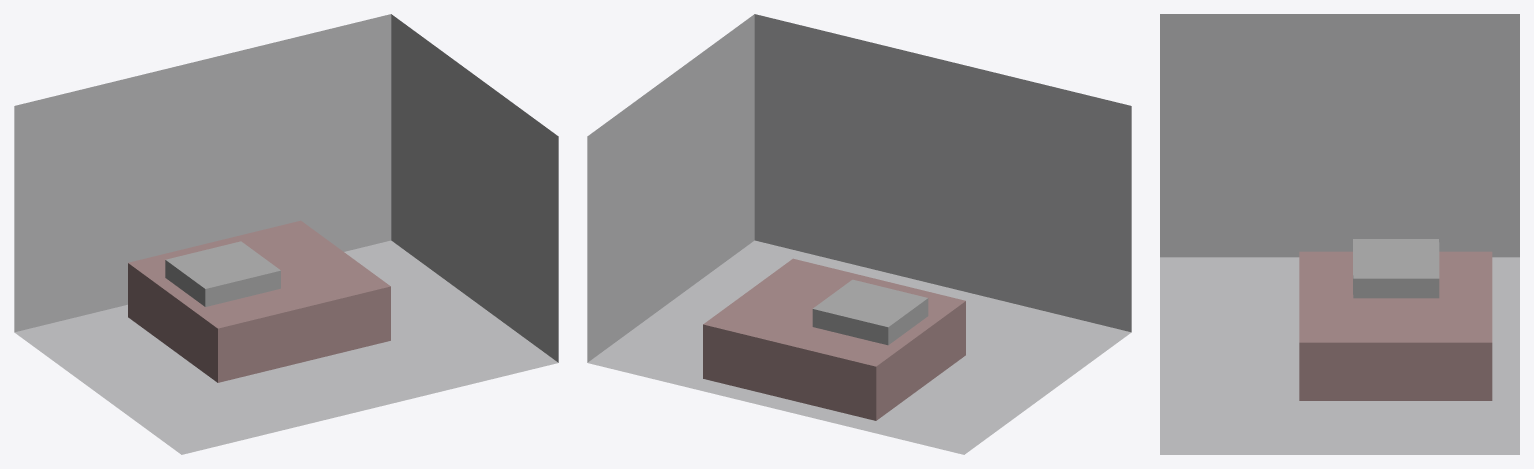
The model's file is current_layout.glb.
3 renders of one model, left to right at view 1: azimuth 30°, elevation 25°; view 2: azimuth 150°, elevation 25°; view 3: azimuth 270°, elevation 25°, orthographic. The views are drawn at different scales.
Parts seen in each view (by area): view 1: room, bed, dustbin, sofas; view 2: room, bed, dustbin, sofas; view 3: room, bed, sofas, centerTable.
Boxes of the visible parts, bbox=[...] form: room: bbox=[14, 14, 558, 454]; bed: bbox=[128, 220, 390, 382]; dustbin: bbox=[165, 245, 274, 306]; sofas: bbox=[172, 241, 280, 289]; room: bbox=[587, 14, 1131, 454]; bed: bbox=[703, 258, 965, 420]; dustbin: bbox=[836, 281, 928, 344]; sofas: bbox=[812, 279, 921, 343]; room: bbox=[1160, 14, 1519, 454]; bed: bbox=[1299, 251, 1492, 400]; sofas: bbox=[1353, 242, 1439, 298]; centerTable: bbox=[1353, 239, 1438, 294].
Bounding box in the file's own units: 4.36 × 2.5 × 3.35.
